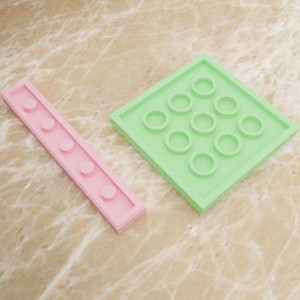lego: (109, 52, 300, 215), (0, 78, 146, 234)
